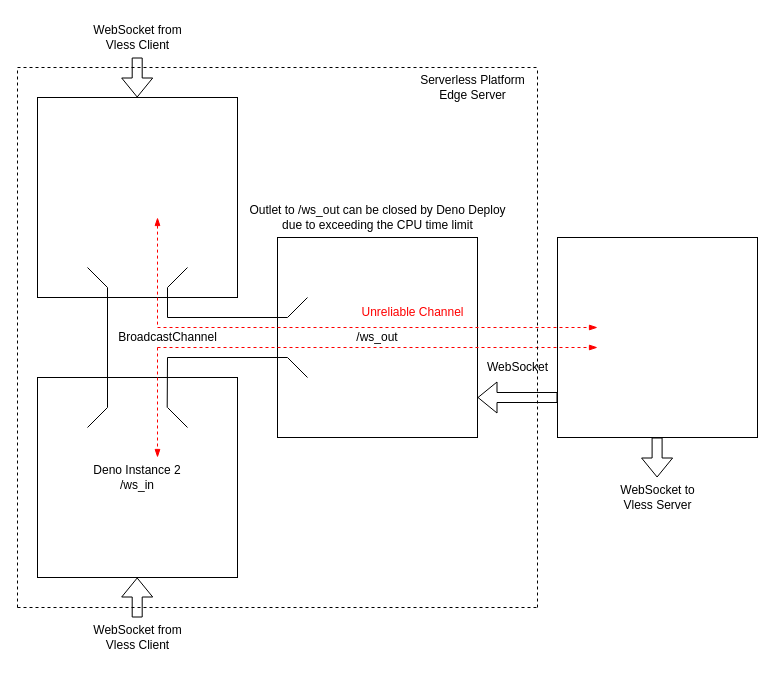
The diagram is 775 pixels wide and 674 high, and some of its shapes have lost their labels. The shapes that lost their labels are listed below. From the top down, each one's centre as x and y in pixels, then its label:
pixel 137 197: Deno Instance 1 /ws_in
pixel 657 337: Outlet
